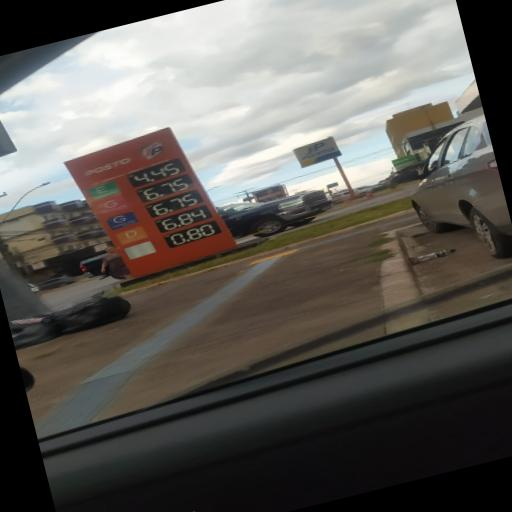ETANOL: (88, 181, 122, 201)
GASOLINA AD: (105, 211, 140, 232)
GASOLINA C: (96, 195, 132, 216)
S10: (116, 226, 149, 245)
placa: (79, 154, 218, 248)
preco: (151, 192, 204, 217), (139, 177, 194, 201), (160, 207, 212, 232), (132, 162, 183, 186)
